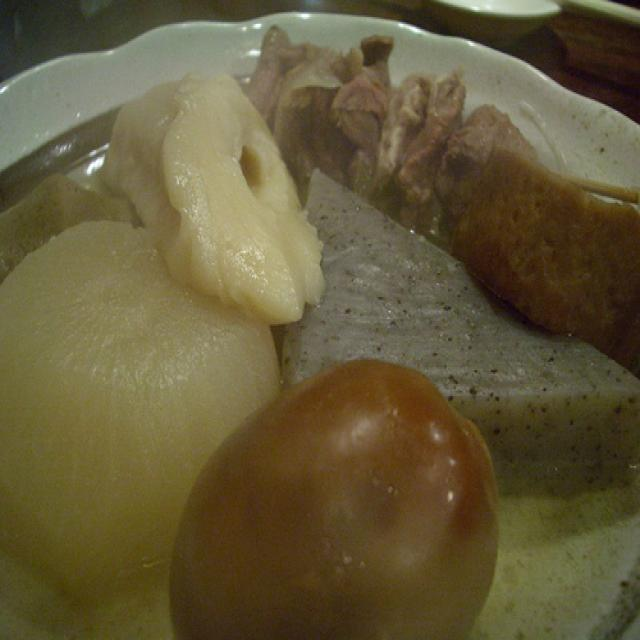汤锅炖物: (0, 25, 640, 640)
